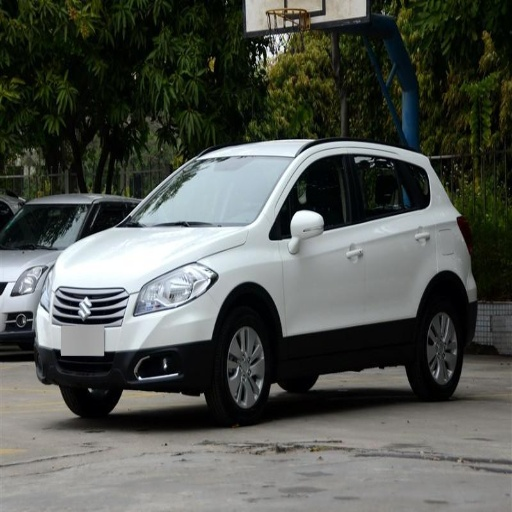front_bumper: (35, 268, 224, 391)
front_glass: (121, 156, 291, 226)
front_left_door: (278, 149, 367, 351)
